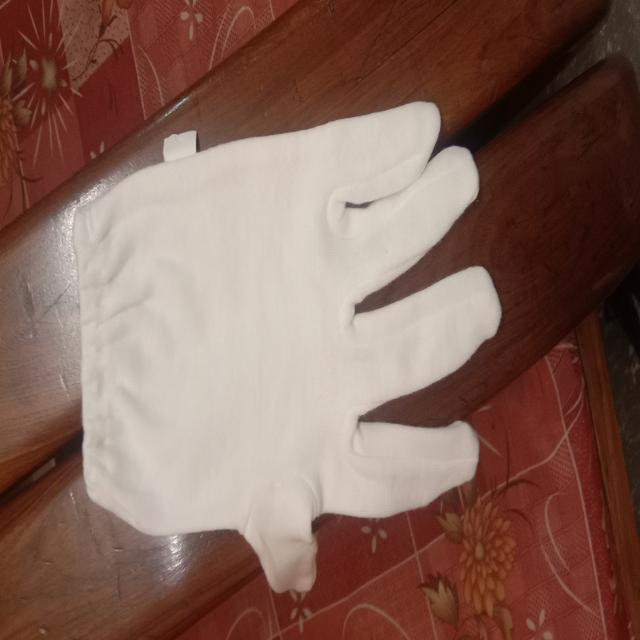glove_hand: (70, 91, 506, 608)
